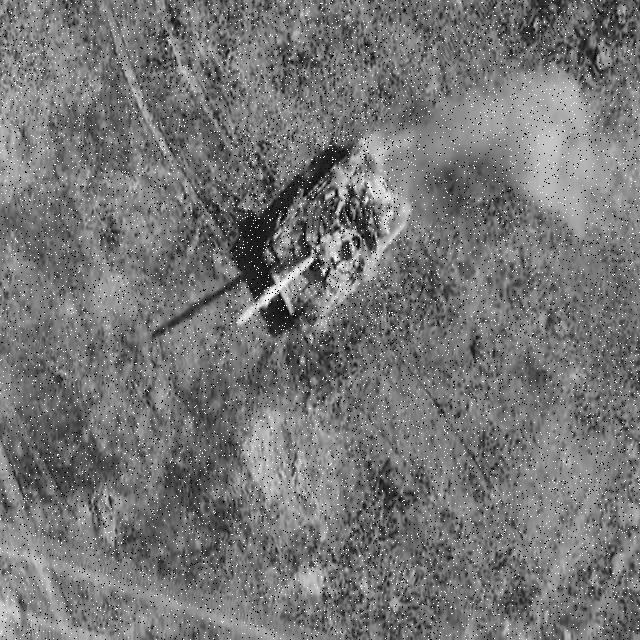MIL_MBT: (225, 132, 409, 346)
